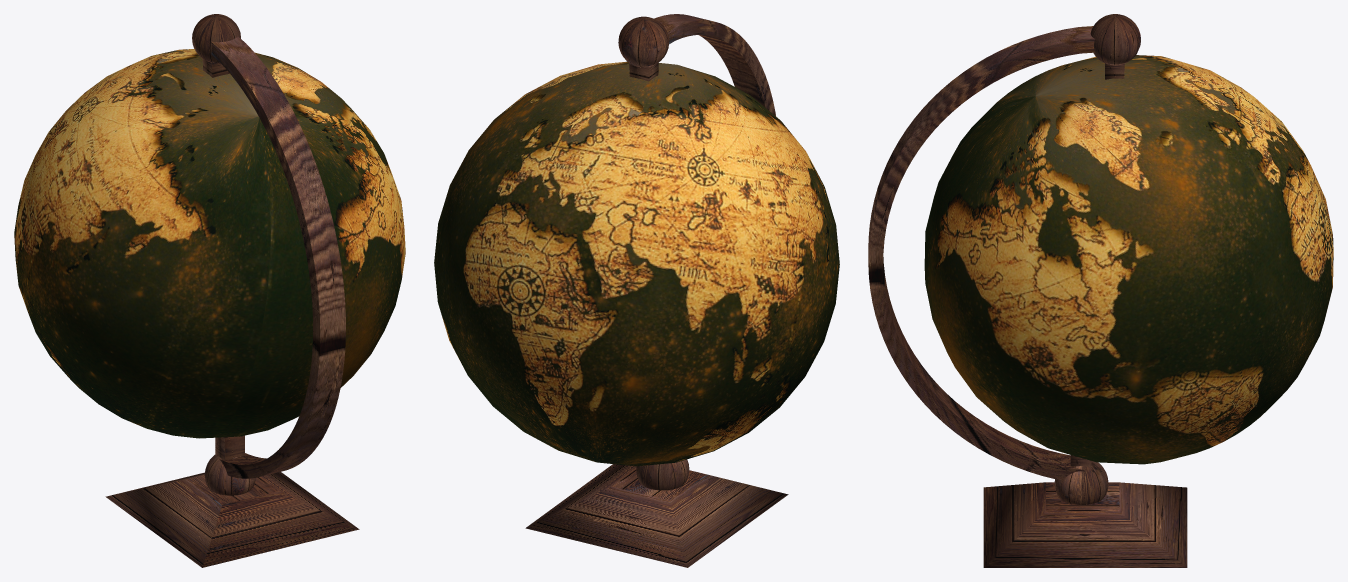
File: sample.glb
3 views of the same model, side by side, from view 1: azimuth 30°, elevation 25°; view 2: azimuth 150°, elevation 25°; view 3: azimuth 270°, elevation 25° (orthographic). The views are drawn at different scales.
Visible parts, largest first — view 1: Globe, Globe_Stand_part-1, Globe_Stand_part-2; view 2: Globe, Globe_Stand_part-1, Globe_Stand_part-2; view 3: Globe, Globe_Stand_part-1, Globe_Stand_part-2.
Part boxes in pixels (x1,y1,x2,y2): Globe: (14,49,405,438); Globe_Stand_part-1: (105,14,359,567); Globe_Stand_part-2: (211,36,345,478); Globe: (434,61,839,466); Globe_Stand_part-1: (525,16,788,567); Globe_Stand_part-2: (654,14,775,115); Globe: (924,55,1333,464); Globe_Stand_part-1: (983,14,1187,567); Globe_Stand_part-2: (868,26,1095,480).
Bounding box in the file's own units: 0.3961 × 0.5452 × 0.4504.
3 materials, 3 textured.
